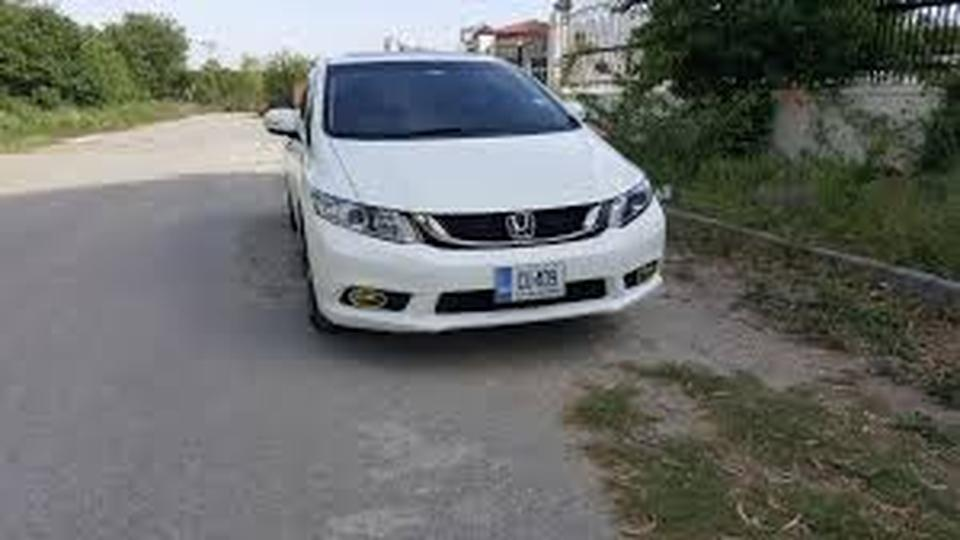NumberPlate: (499, 263, 568, 301)
